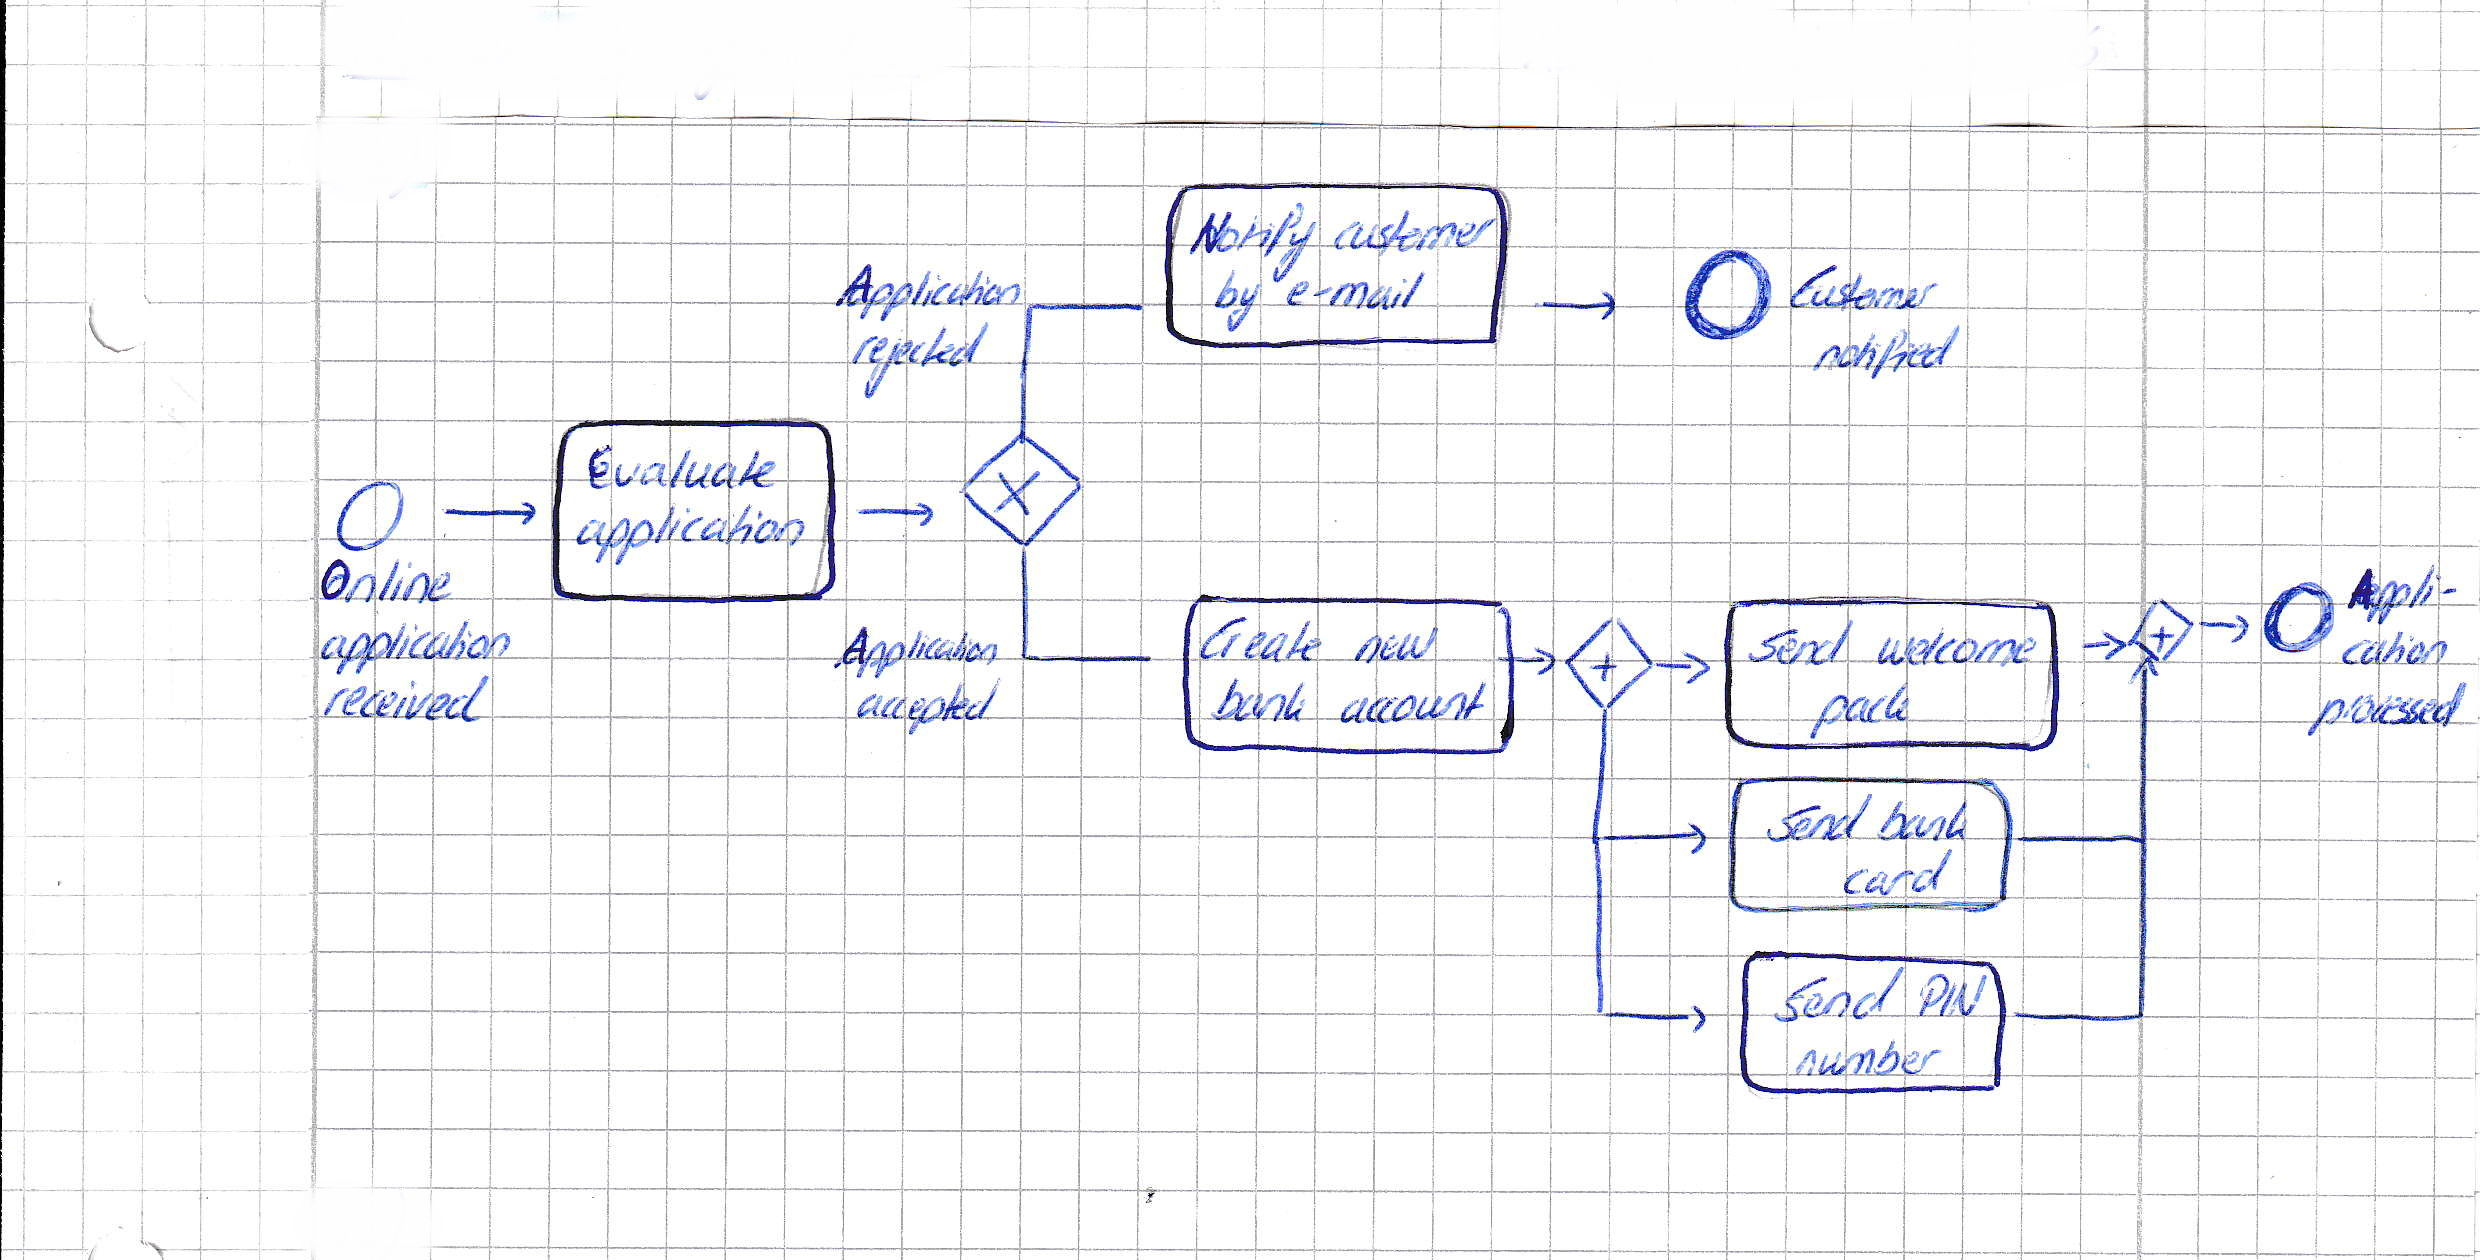Appli-: (2348, 561, 2462, 624)
Application: (827, 259, 1026, 326), (827, 627, 1005, 678)
Create: (1195, 612, 1332, 669)
Customer: (1785, 260, 1944, 321)
Evaluate: (581, 440, 779, 495)
Notify: (1189, 202, 1319, 278)
Online: (321, 558, 459, 612)
PIN: (1916, 969, 1992, 1027)
accepted: (855, 681, 1002, 741)
account: (1341, 677, 1494, 730)
application: (570, 503, 813, 562), (316, 612, 514, 680)
bank: (1874, 792, 1976, 853), (1211, 677, 1311, 730)
by: (1213, 272, 1274, 329)
card: (1841, 847, 1958, 900)
cation: (2339, 627, 2461, 678)
customer: (1327, 199, 1502, 262)
e-mail: (1283, 272, 1431, 313)
new: (1349, 616, 1447, 672)
notified: (1810, 323, 1966, 386)
number: (1788, 1040, 1944, 1082)
pack: (1810, 683, 1913, 738)
processed: (2303, 678, 2470, 742)
received: (318, 677, 500, 730)
rejected: (843, 323, 994, 399)
send: (1776, 971, 1910, 1029), (1748, 611, 1863, 677), (1764, 791, 1878, 853)
welcome: (1874, 611, 2045, 678)
